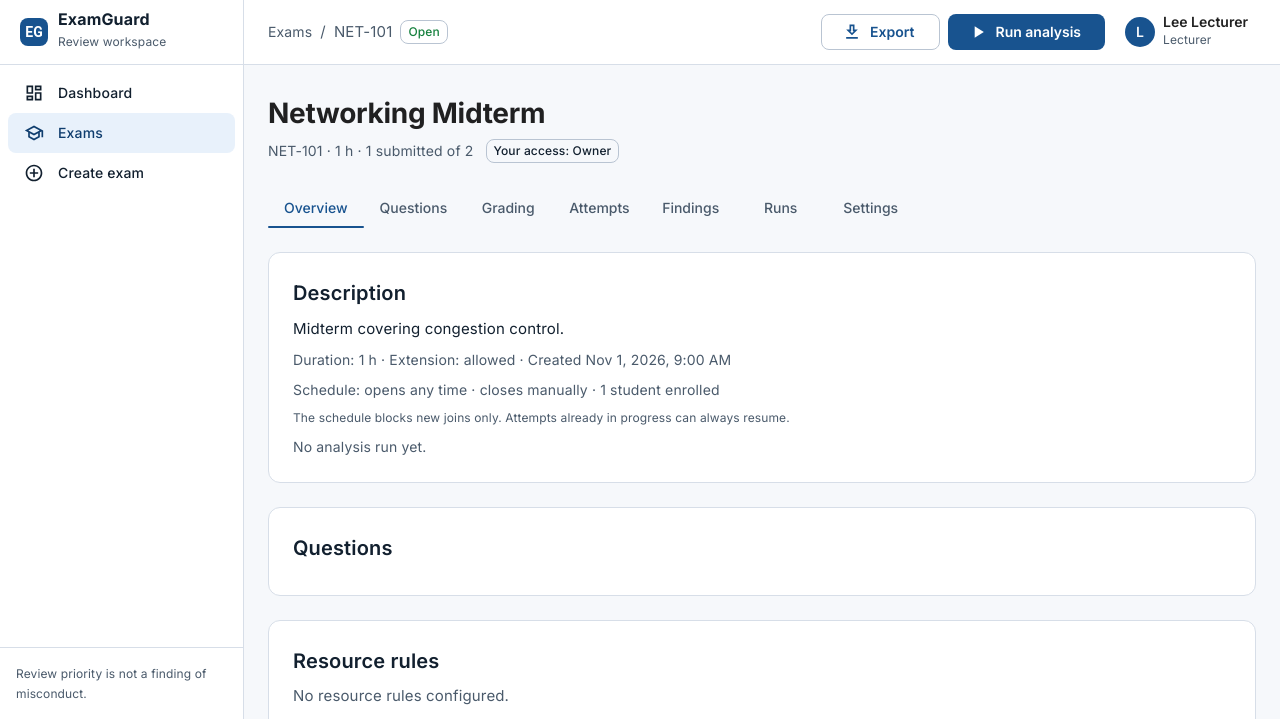
Test: ExamDetailPage exports › downloads the exam CSV with its code in the filename
Expected: the heading "Networking Midterm" is shown, left=268, top=96, right=545, bottom=130
Click the button "Export" at [880, 32], box left=821, top=14, right=940, bottom=50
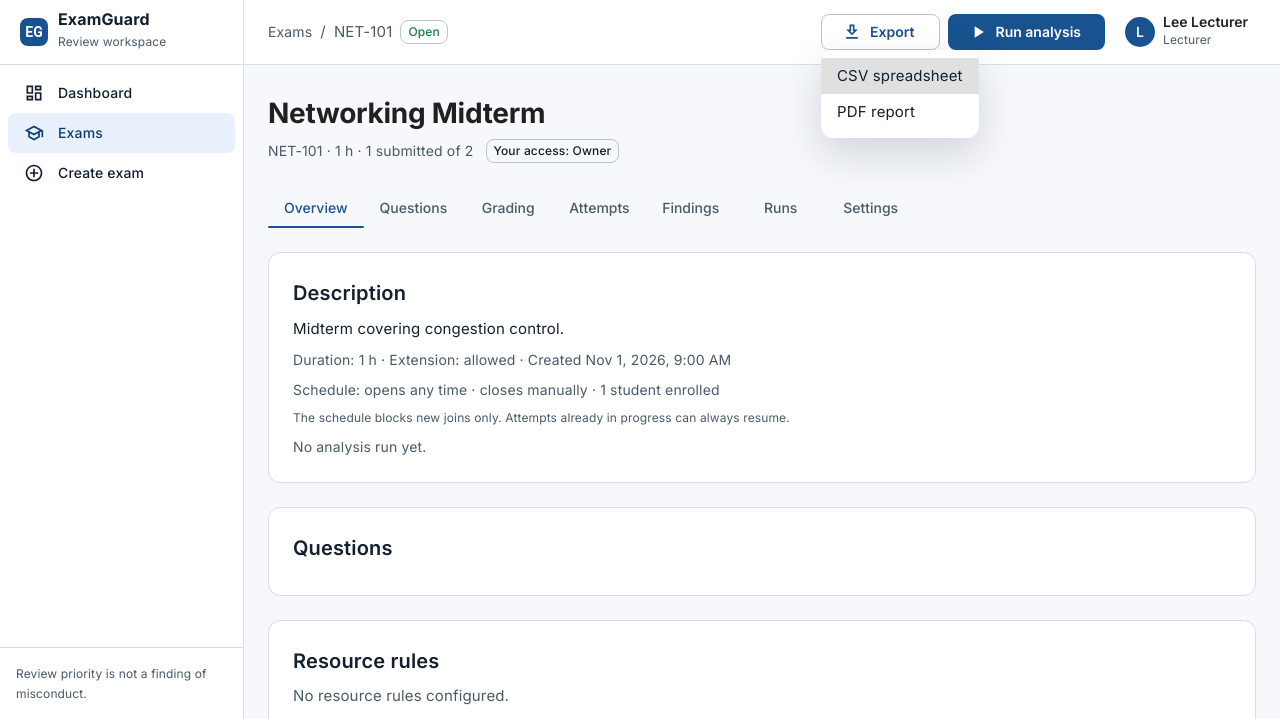
Click the menu item "CSV spreadsheet" at [900, 76], box left=821, top=58, right=979, bottom=94
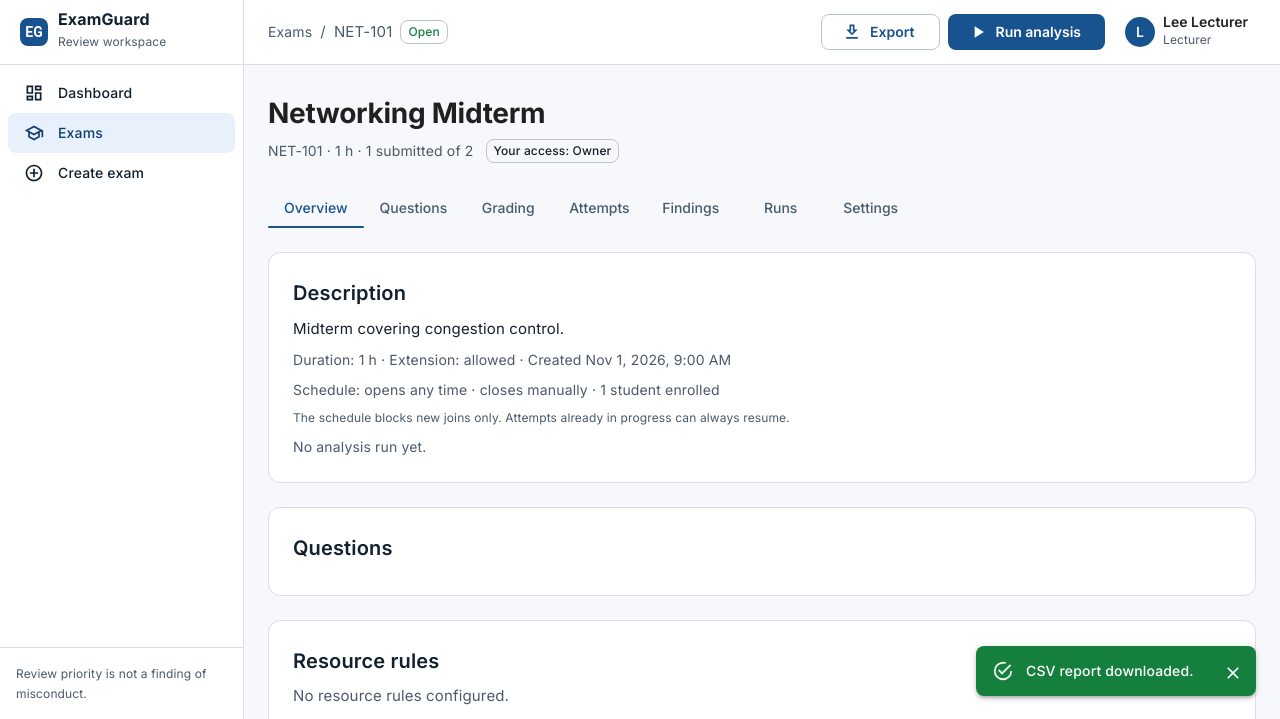
Now the text "CSV report downloaded." is shown, box left=1026, top=662, right=1194, bottom=679
